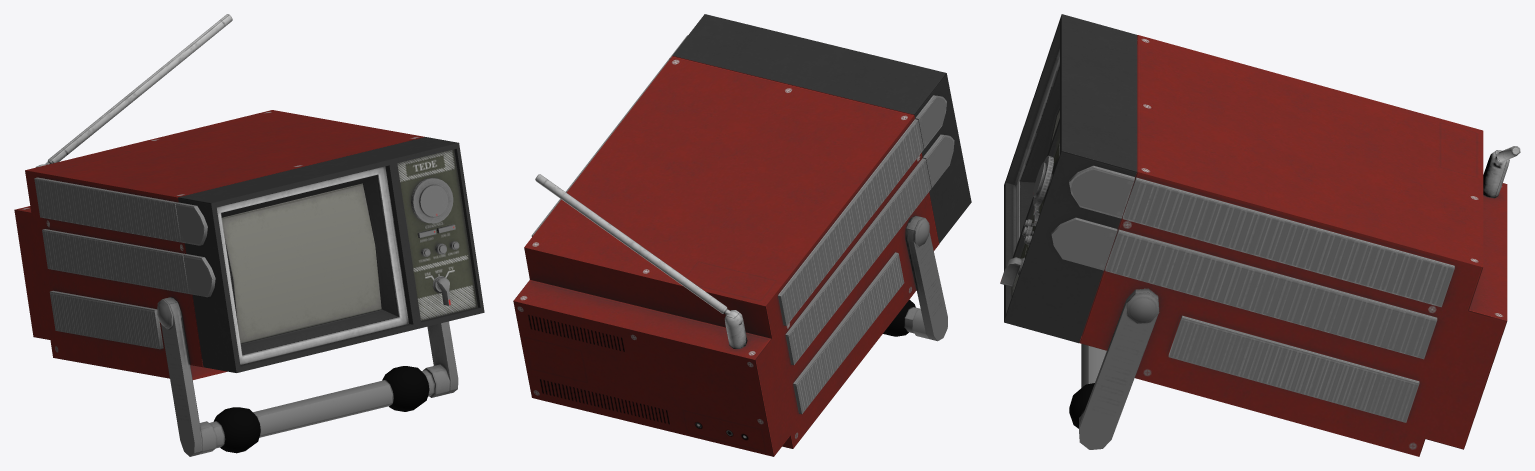
The picture shows the model from 3 angles, left to right: view 1: azimuth 30°, elevation 25°; view 2: azimuth 150°, elevation 25°; view 3: azimuth 270°, elevation 25°; orthographic projection. The views are drawn at different scales.
Parts seen in each view (by area): view 1: defaultMaterial; view 2: defaultMaterial; view 3: defaultMaterial.
Boxes of the visible parts, <box> form: defaultMaterial: <box>14,14,484,456</box>; defaultMaterial: <box>513,14,971,456</box>; defaultMaterial: <box>1000,14,1520,456</box>.
Size of the model in its own units: 0.3019 by 0.2805 by 0.4322.
1 material, 1 textured.
